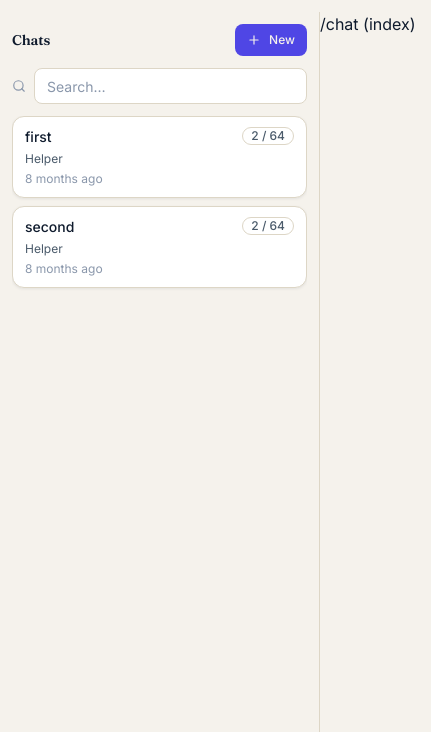
Test: ChatPage › clicking a conversation in the left pane navigates to /chat/<id>
Click the text "second" at (50, 226), box top-left (25, 218), bottom-right (74, 235)
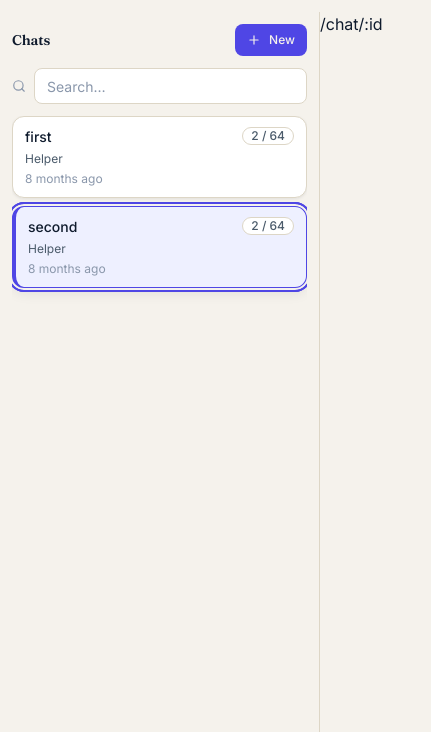
Check: the text with test id "probe" reads "/chat/:id", box top-left (320, 14), bottom-right (383, 34)
